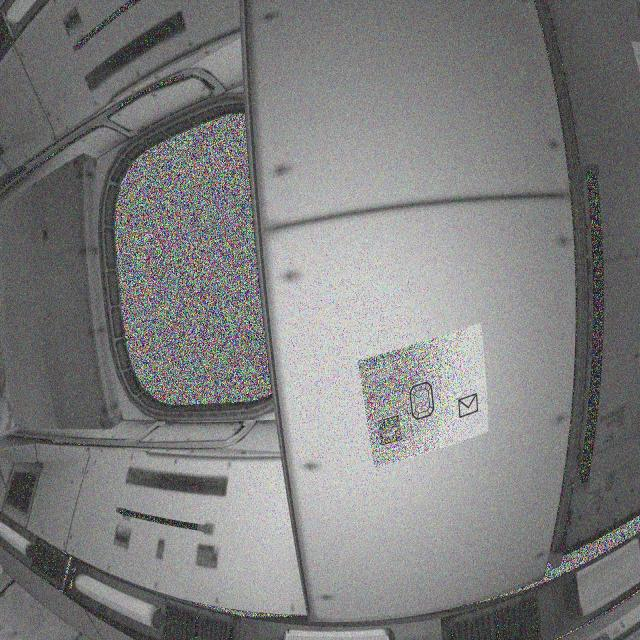emerald: (407, 372, 441, 428)
letter: (456, 389, 484, 423)
